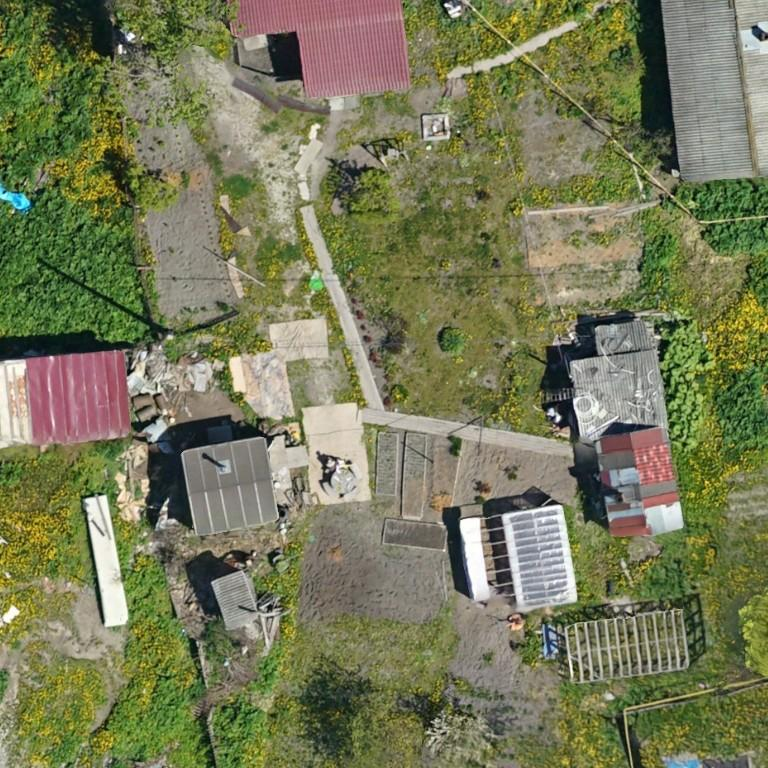hogweed: (10, 75, 91, 178), (679, 179, 767, 251), (712, 368, 767, 460), (211, 695, 268, 767), (128, 566, 180, 632), (0, 50, 40, 116), (149, 678, 200, 728), (639, 561, 684, 595)
